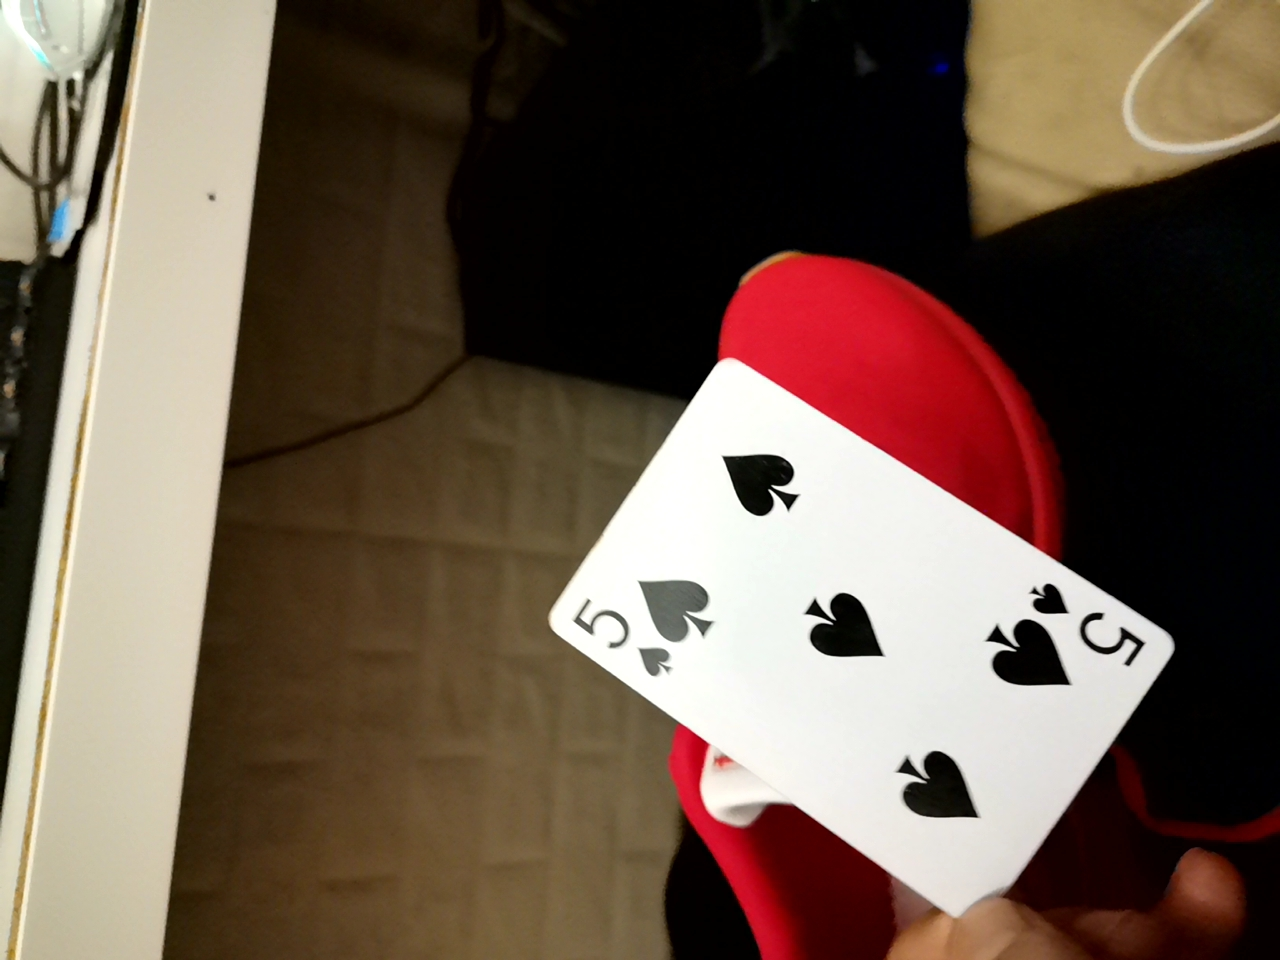ht 5: (592, 403, 1209, 899)
